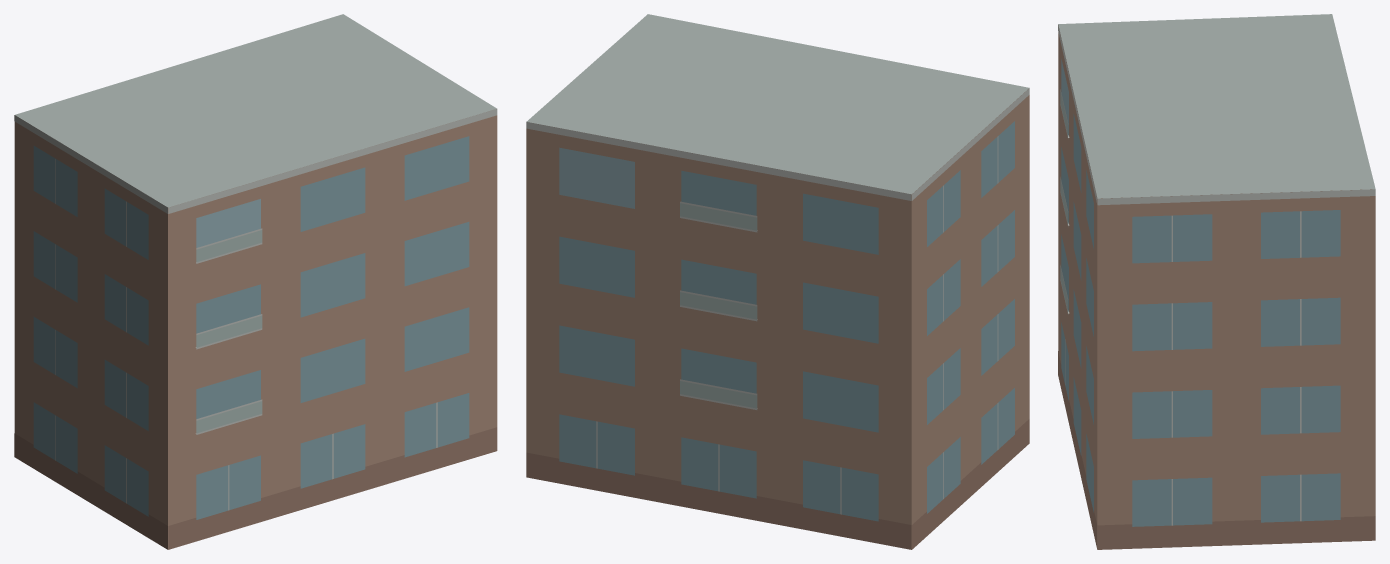
The model's file is survey-upis-32671203.glb.
3 views of the same model, side by side, from view 1: azimuth 30°, elevation 25°; view 2: azimuth 150°, elevation 25°; view 3: azimuth 270°, elevation 25° (orthographic). The views are drawn at different scales.
Parts seen in each view (by area): view 1: survey-upis-32671203.tmp; view 2: survey-upis-32671203.tmp; view 3: survey-upis-32671203.tmp.
Boxes of the visible parts, x1,y1,x2,y2 form: survey-upis-32671203.tmp: [14, 14, 497, 549]; survey-upis-32671203.tmp: [526, 14, 1029, 549]; survey-upis-32671203.tmp: [1058, 14, 1375, 549].
Size of the model in its own units: 14.43 by 12.8 by 10.49.
